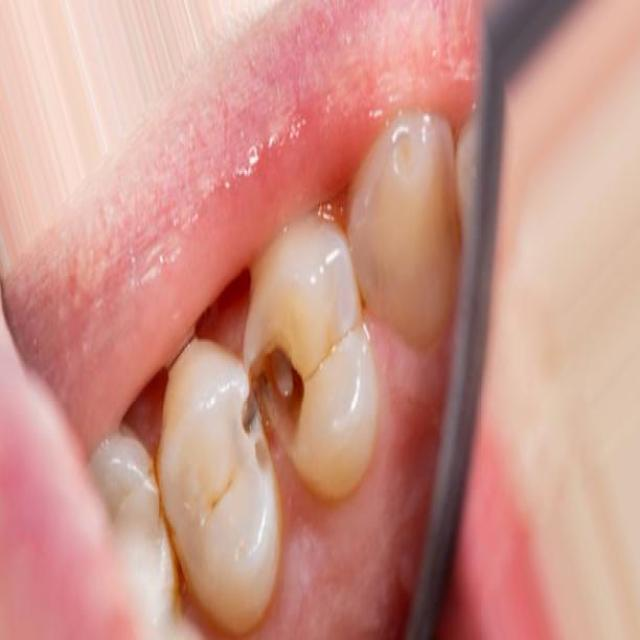caries: (216, 327, 324, 461)
